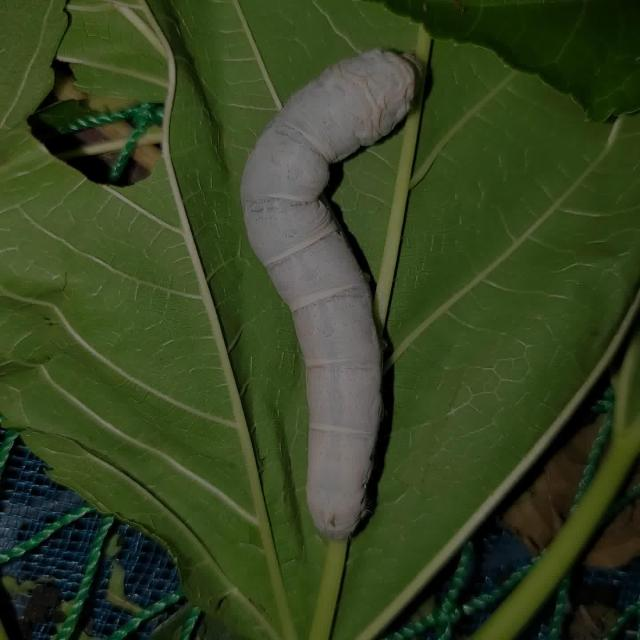Healthy: (205, 33, 488, 556)
